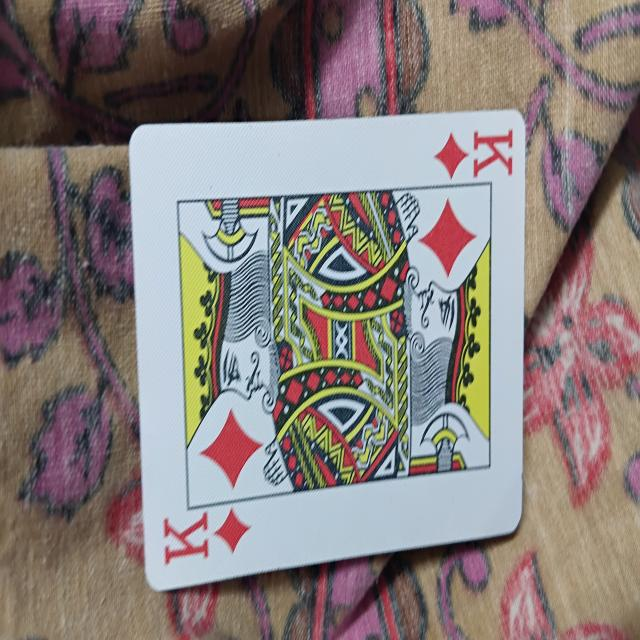KD: (137, 104, 528, 594)
